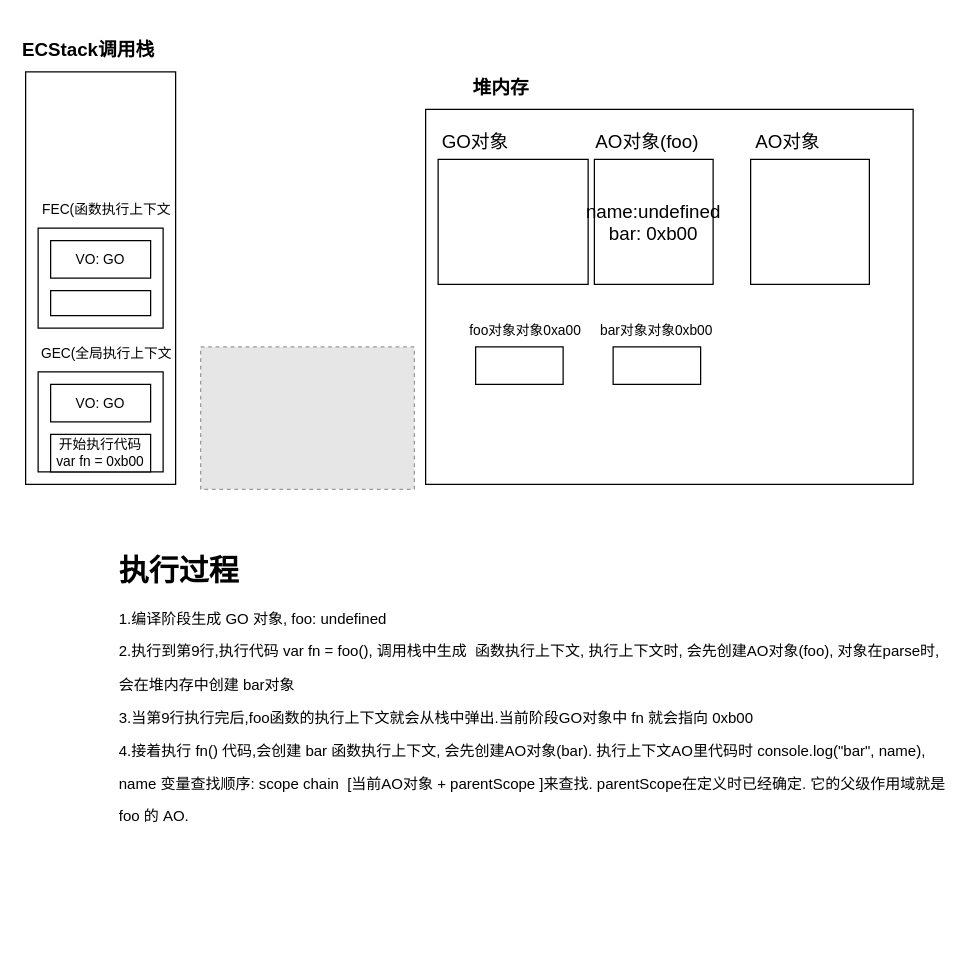
Some shapes in this 971 by 968 pixel diagram are drawn without their labels. Grey dashed boxes stand in for pictures. The shapes that lost their labels are listed below. From the top down, each one's box as (x1, y1, x2, y2) in pixels, then its label:
(437, 158, 588, 284): String setTimeout window foo: 0xa00 fn: undefined
(49, 289, 151, 316): 开始执行代码
